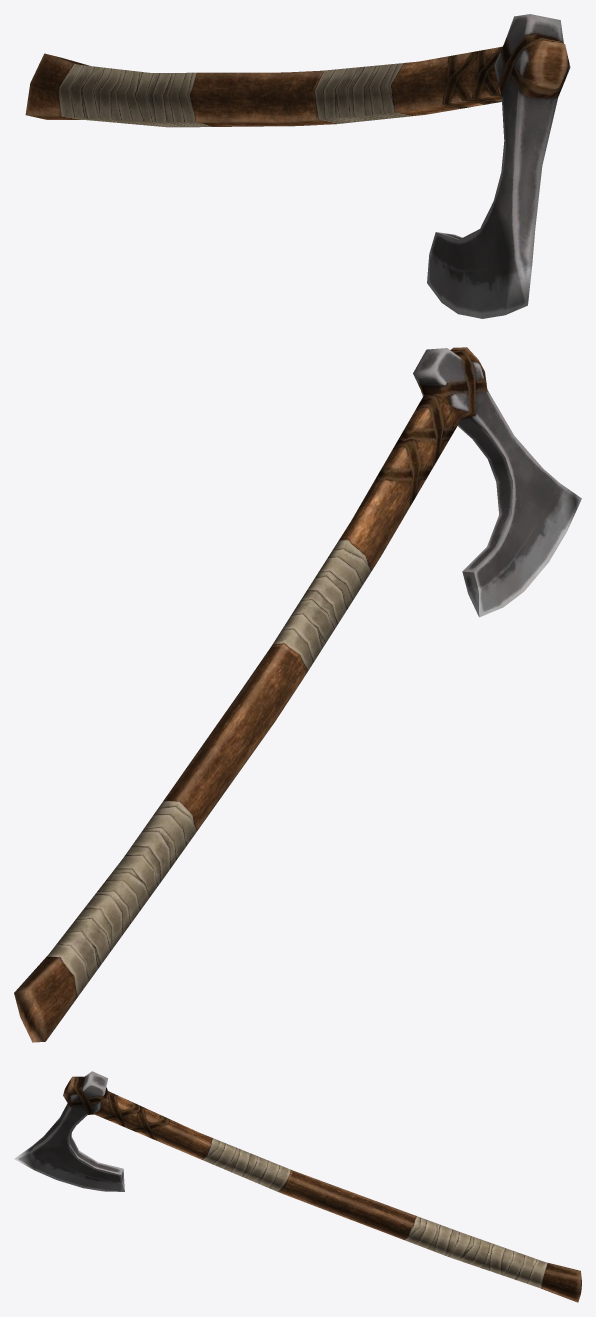
File: weapon-slice-base.glb
The picture shows the model from 3 angles, top to bottom: view 1: azimuth 30°, elevation 25°; view 2: azimuth 150°, elevation 25°; view 3: azimuth 270°, elevation 25°; orthographic projection. The views are drawn at different scales.
Bounding box in the file's own units: 0.2474 × 0.9835 × 2.19.
Materials: 1 (1 with a texture image).
